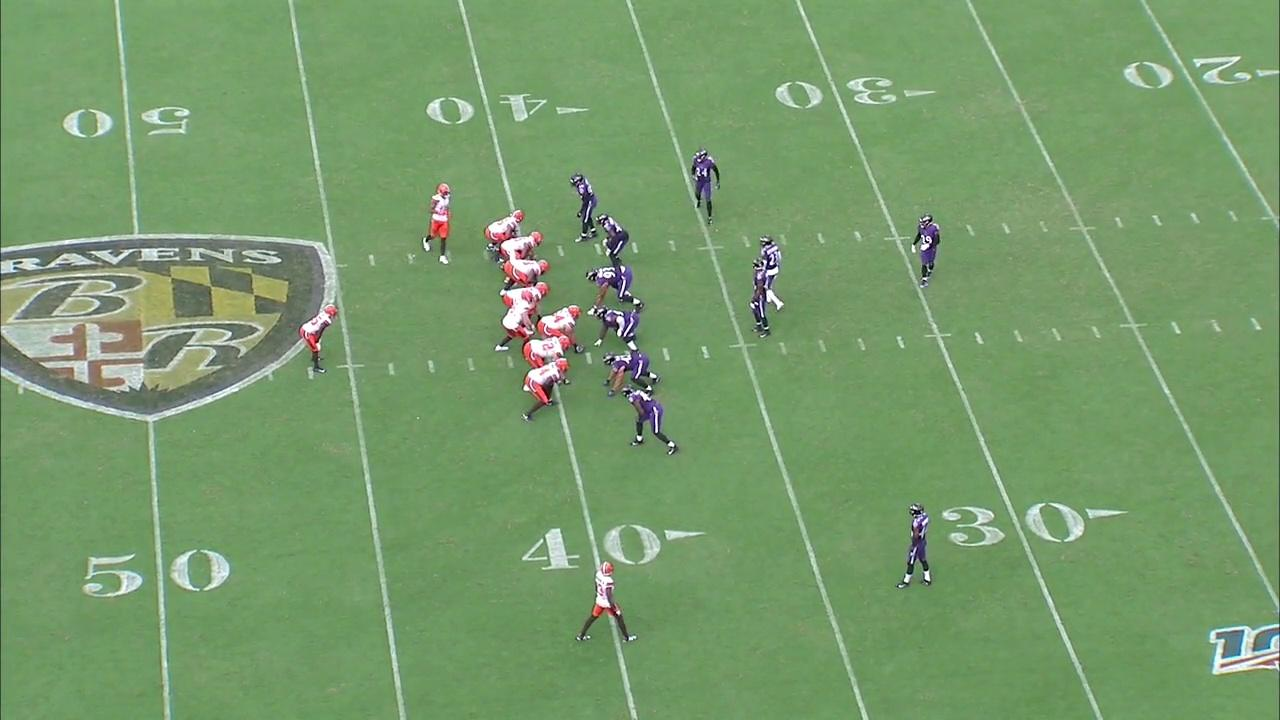player: (573, 557, 636, 644), (616, 383, 678, 458), (417, 180, 458, 264), (520, 357, 572, 419), (898, 503, 934, 589), (297, 301, 338, 375), (521, 334, 571, 393), (583, 267, 645, 313), (601, 351, 661, 398), (492, 292, 532, 360), (537, 304, 587, 355), (909, 214, 940, 290), (690, 147, 720, 225), (567, 167, 597, 244), (499, 280, 550, 324), (594, 306, 642, 352), (499, 256, 554, 296), (746, 262, 772, 336), (498, 230, 544, 271), (760, 232, 784, 310), (483, 209, 525, 252), (599, 214, 628, 265)
